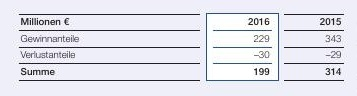table: (0, 0, 357, 96)
